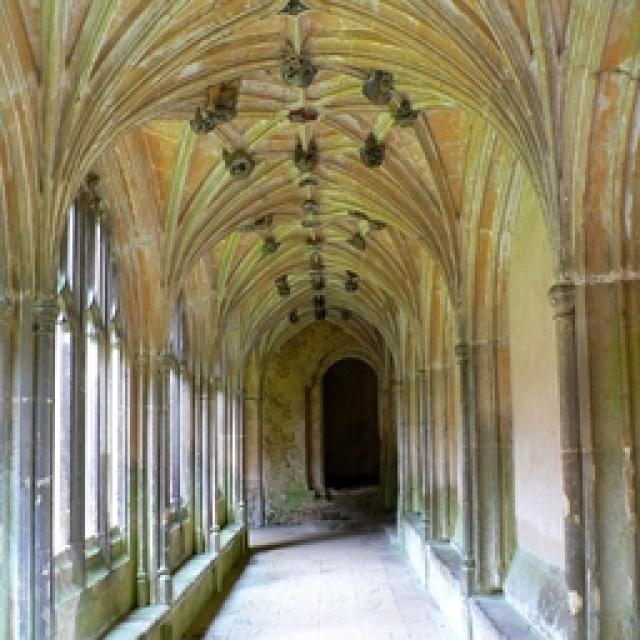Abbey: (202, 102, 478, 582)
